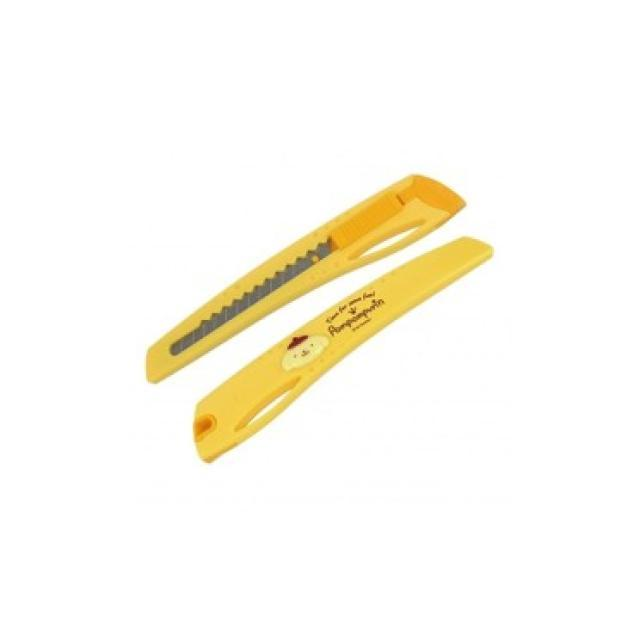cutter: (120, 166, 482, 406), (184, 226, 493, 474)
